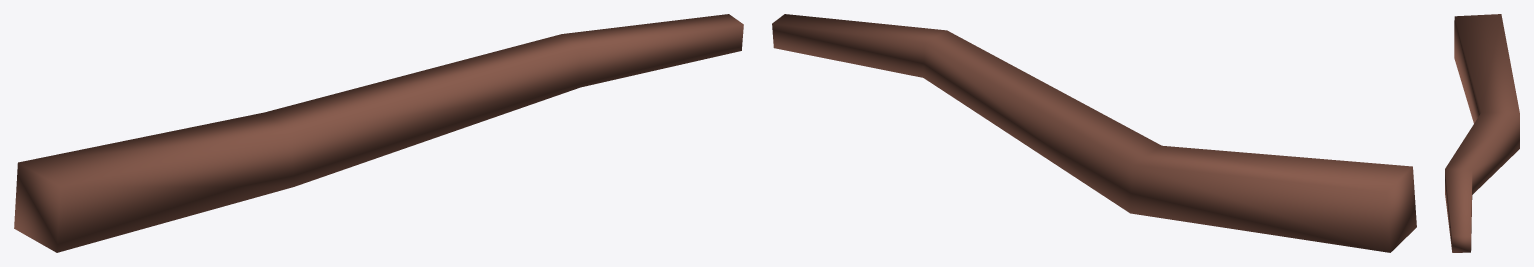
Rendered from Stick_DarkBrown_1.fbx.
The picture shows the model from 3 angles, left to right: view 1: azimuth 30°, elevation 25°; view 2: azimuth 150°, elevation 25°; view 3: azimuth 270°, elevation 25°; orthographic projection. The views are drawn at different scales.
Parts seen in each view (by area): view 1: Stick_DarkBrown_1; view 2: Stick_DarkBrown_1; view 3: Stick_DarkBrown_1.
Boxes of the visible parts, bbox=[...] form: Stick_DarkBrown_1: bbox=[14, 14, 743, 252]; Stick_DarkBrown_1: bbox=[772, 14, 1416, 252]; Stick_DarkBrown_1: bbox=[1445, 14, 1519, 252].
Bounding box in the file's own units: 197 × 25.7 × 28.14.
